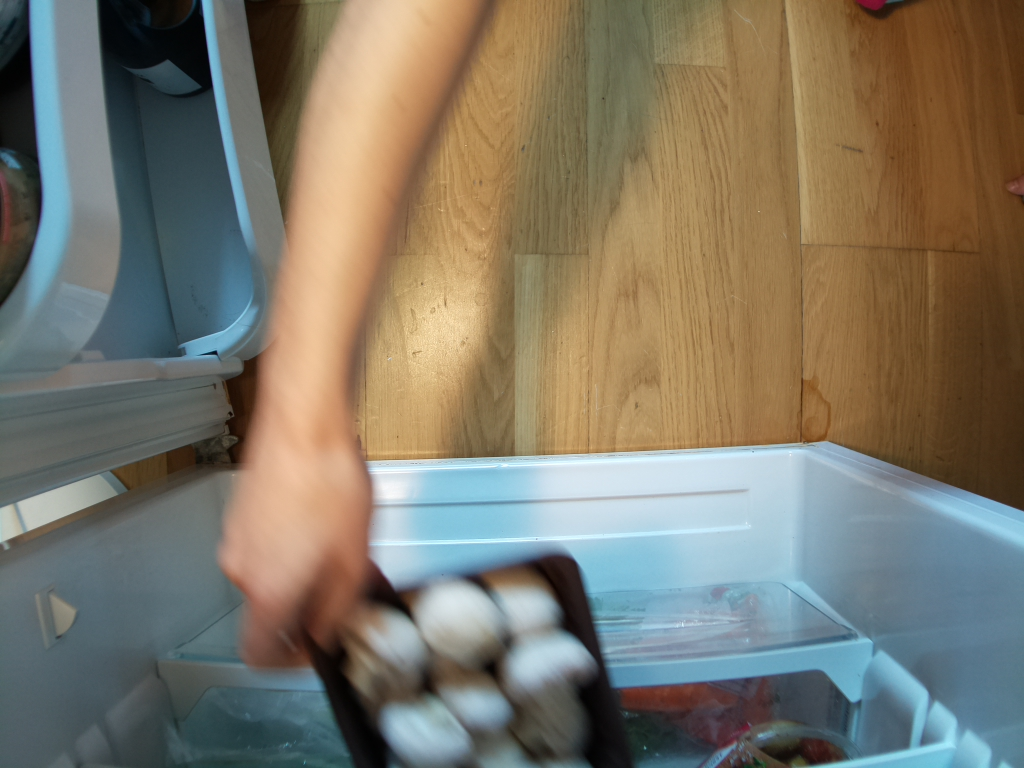mushrooms: (308, 549, 641, 768)
